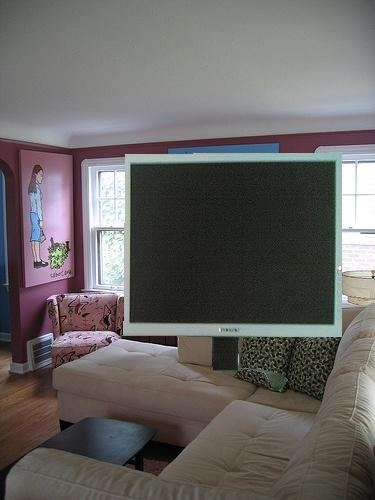tampered: (123, 153, 342, 391)
